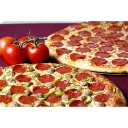pepperonipizza: (1, 64, 127, 107), (47, 21, 128, 72)
